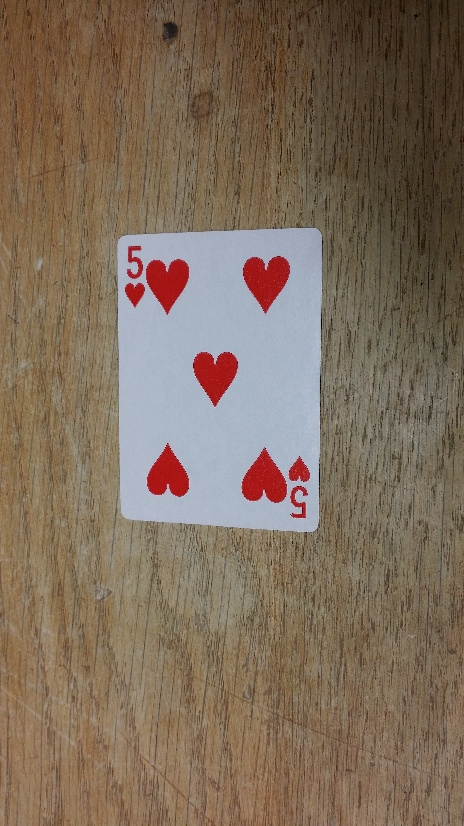H5: (119, 240, 149, 310), (285, 451, 313, 520)
